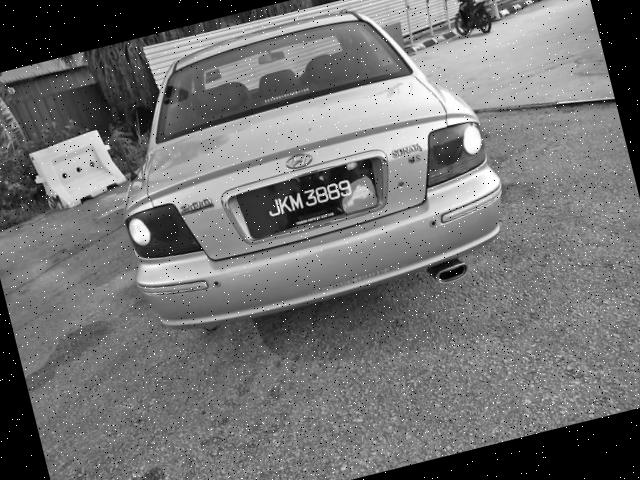License_Plate: (250, 170, 372, 232)
